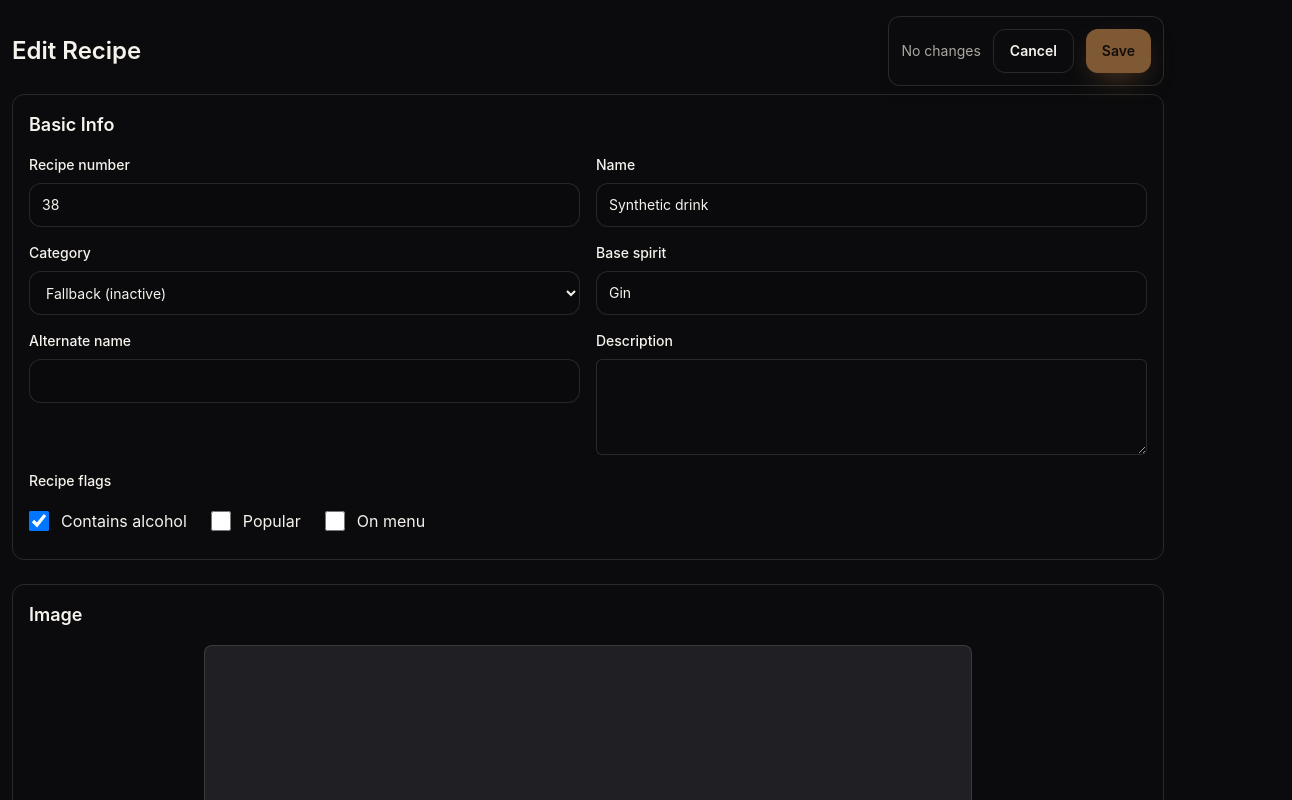
Scenario: recipe editor › shows structured duplicate number inline and preserves form
The image size is (1292, 800).
Type " changed" into the field labelled "Name". click: {"x": 872, "y": 205}
box: [596, 183, 1147, 227]
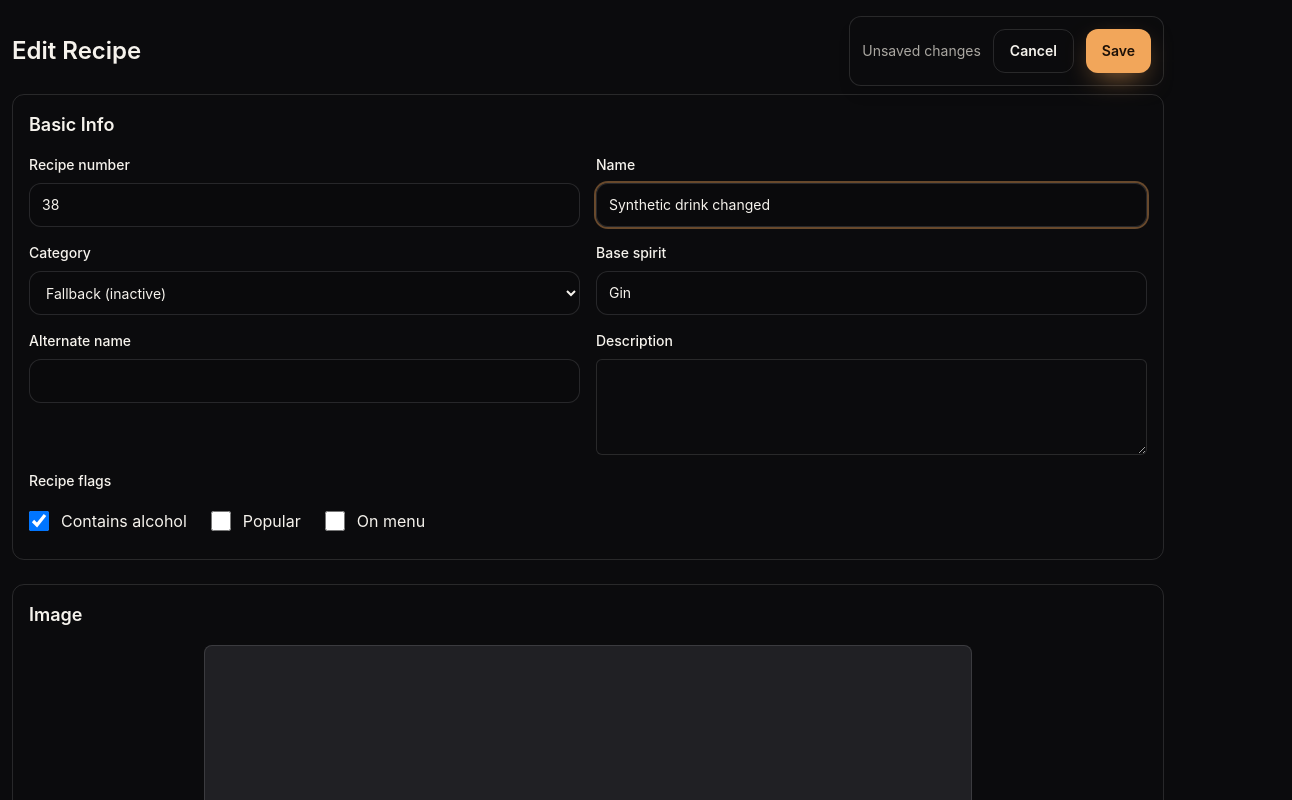
Click the button "Save". click: {"x": 1118, "y": 51}
box: [1086, 29, 1151, 73]
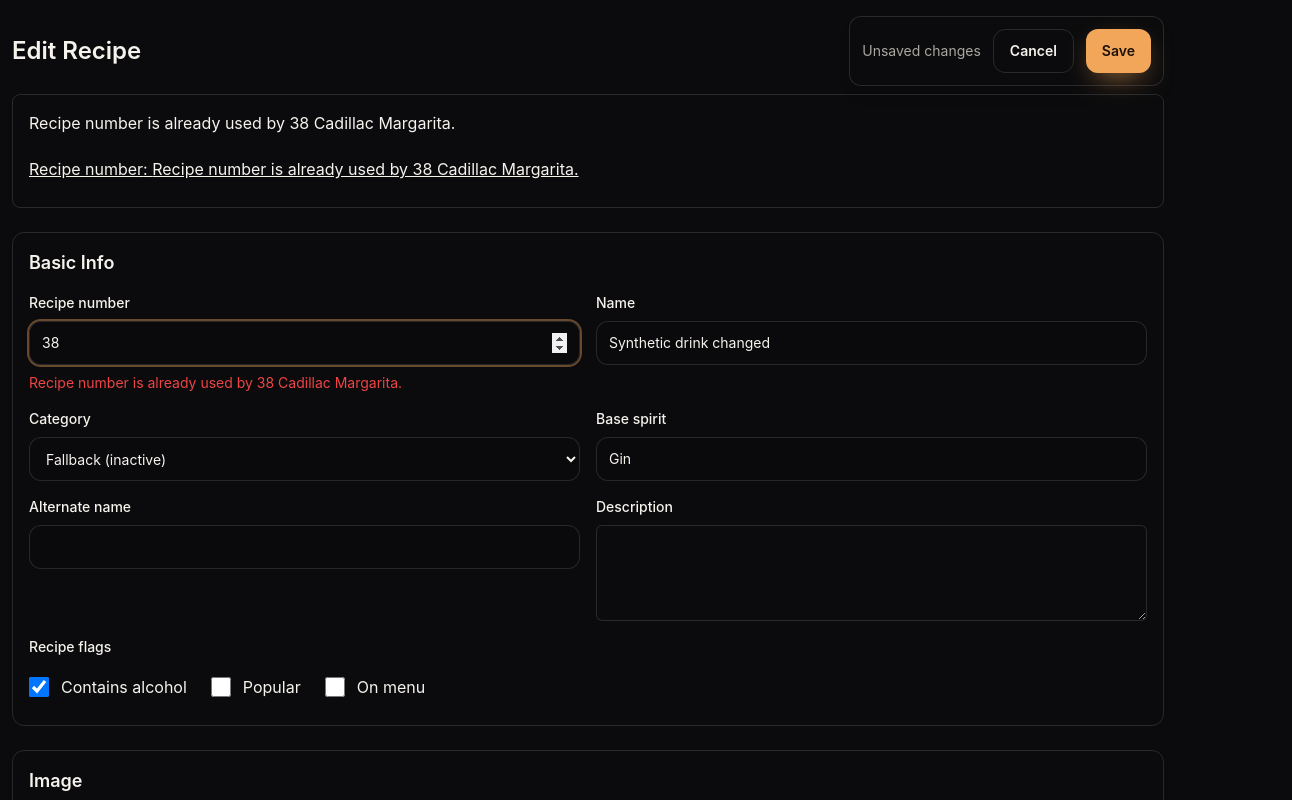
Now the field labelled "Name" holds "Synthetic drink changed", box [596, 321, 1147, 365]
Now the text with id "recipe_number-error" shows "38 Cadillac Margarita", box [29, 374, 402, 391]
